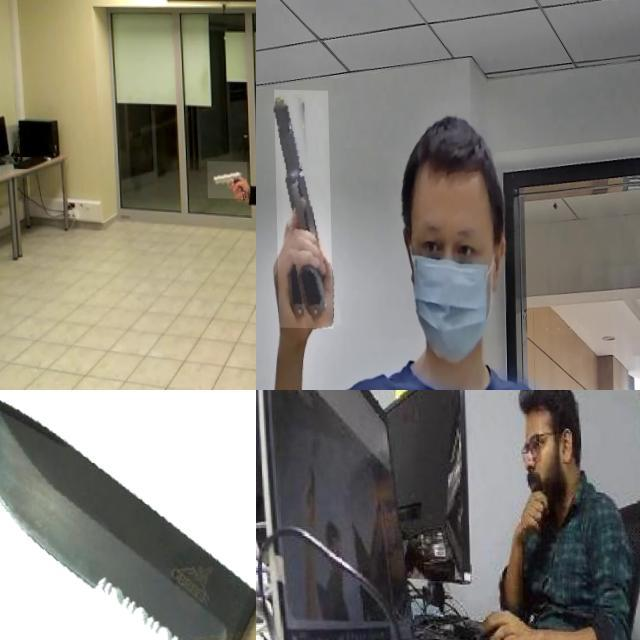-: (0, 390, 256, 640), (576, 390, 640, 444)
gun-knife-thesis - v11 Yolov5 augmented: (273, 89, 331, 328), (205, 160, 246, 198)
